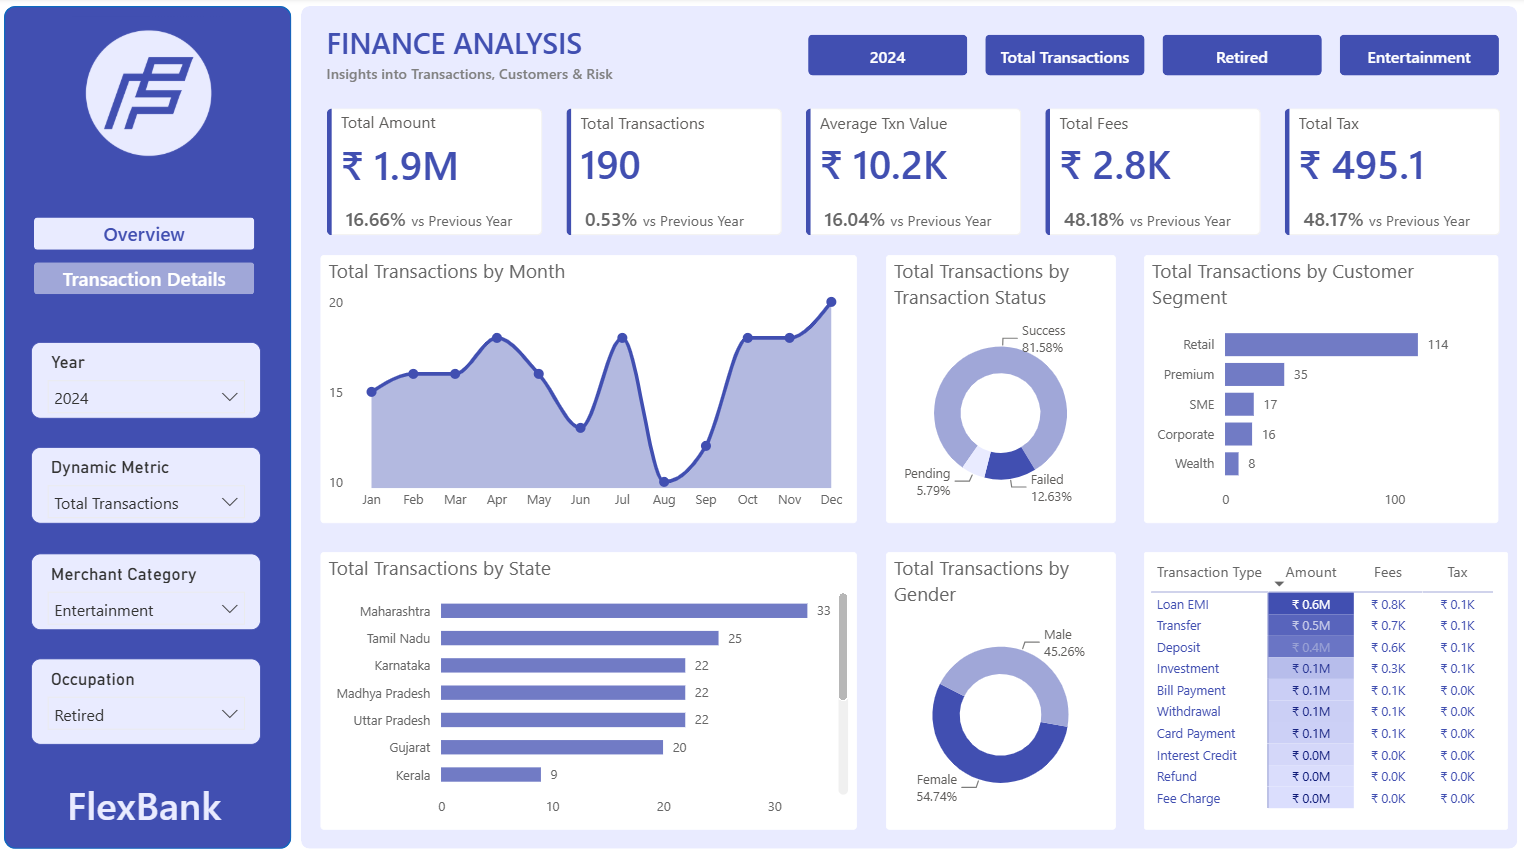

This screenshot's page, from the dashboard's own definition file:
{"tool":"powerbi","page":{"name":"Overview","canvas":[1280,720],"ordinal":0},"visuals":[{"type":"shape","box":[8,8,240,704],"z":0},{"type":"shape","box":[256,8,1016,704],"z":1000},{"type":"image","box":[56,16,144,128],"z":2000},{"type":"textbox","box":[32,648,184,56],"z":3000},{"type":"textbox","box":[272,16,400,64],"z":4000},{"type":"cardVisual","fields":{"Data":["finance_transactions.Total Amount","finance_transactions.Total Transactions","finance_transactions.Average Txn Value","finance_transactions.Total Fees","_Measures.Total Tax"]},"box":[272,88,992,112],"z":5000},{"type":"slicer","fields":{"Values":["Calendar_Table.Year"]},"box":[29.7,288.2,192,64],"z":6000},{"type":"slicer","fields":{"Values":["Dynamic Metrics.Dynamic Metrics"]},"box":[29.7,376.2,192,64],"z":7000},{"type":"areaChart","fields":{"Y":["_Measures.Total Transactions"],"Category":["Calendar_Table.Month"]},"box":[272,216,448,224],"z":8000},{"type":"cardVisual","fields":{"Data":["_Measures.Selected Year","Min(Dynamic Metrics.Dynamic Title)","_Measures.Selected Occupation","_Measures.Selected Merchant Category"]},"box":[664,16,608,64],"z":9000},{"type":"barChart","fields":{"Y":["_Measures.Total Transactions"],"Category":["customers.customer_segment"]},"box":[960,216,296,224],"z":10000},{"type":"donutChart","fields":{"Y":["_Measures.Total Transactions"],"Category":["finance_transactions.transaction_status"]},"box":[744,216,192,224],"z":11000},{"type":"barChart","fields":{"Y":["_Measures.Total Transactions"],"Category":["customers.state"]},"box":[272,464,448,232],"z":12000},{"type":"pivotTable","fields":{"Values":["_Measures.Total Amount","_Measures.Total Fees","_Measures.Total Tax"],"Rows":["finance_transactions.transaction_type"]},"box":[960,464,304,232],"z":13000},{"type":"donutChart","fields":{"Y":["_Measures.Total Transactions"],"Category":["customers.gender"]},"box":[744,464,192,232],"z":14000},{"type":"slicer","fields":{"Values":["customers.occupation"]},"box":[29.7,552.2,192,72],"z":15000},{"type":"slicer","fields":{"Values":["finance_transactions.merchant_category"]},"box":[29.7,464.2,192,64],"z":16000},{"type":"pageNavigator","box":[32,184,184,64],"z":17000}]}

Visuals, with their boxes in screenshot pixels (x1, y1, x2, y2), scaled from the page's 1280x720 canvas onto the 1524x854 screenshot:
shape: 10 9 295 845
shape: 305 9 1514 845
image: 67 19 238 171
textbox: 38 769 257 835
textbox: 324 19 800 95
cardVisual - finance_transactions.Total Amount x finance_transactions.Total Transactions: 324 104 1505 237
slicer - Calendar_Table.Year: 35 342 264 418
slicer - Dynamic Metrics.Dynamic Metrics: 35 446 264 522
areaChart - _Measures.Total Transactions x Calendar_Table.Month: 324 256 857 522
cardVisual - _Measures.Selected Year x Min(Dynamic Metrics.Dynamic Title): 791 19 1514 95
barChart - _Measures.Total Transactions x customers.customer_segment: 1143 256 1495 522
donutChart - _Measures.Total Transactions x finance_transactions.transaction_status: 886 256 1114 522
barChart - _Measures.Total Transactions x customers.state: 324 550 857 826
pivotTable - _Measures.Total Amount x _Measures.Total Fees: 1143 550 1505 826
donutChart - _Measures.Total Transactions x customers.gender: 886 550 1114 826
slicer - customers.occupation: 35 655 264 740
slicer - finance_transactions.merchant_category: 35 551 264 627
pageNavigator: 38 218 257 294
